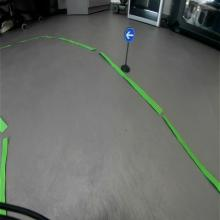left: (124, 26, 136, 43)
